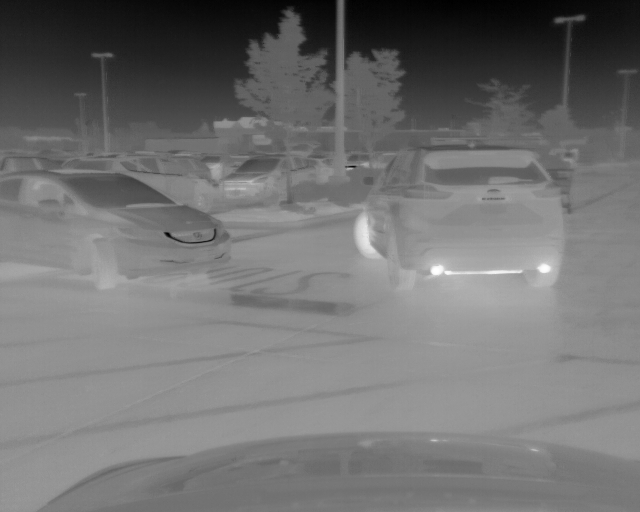car: (351, 144, 567, 294), (1, 170, 234, 290), (69, 156, 218, 216), (223, 154, 327, 206)
